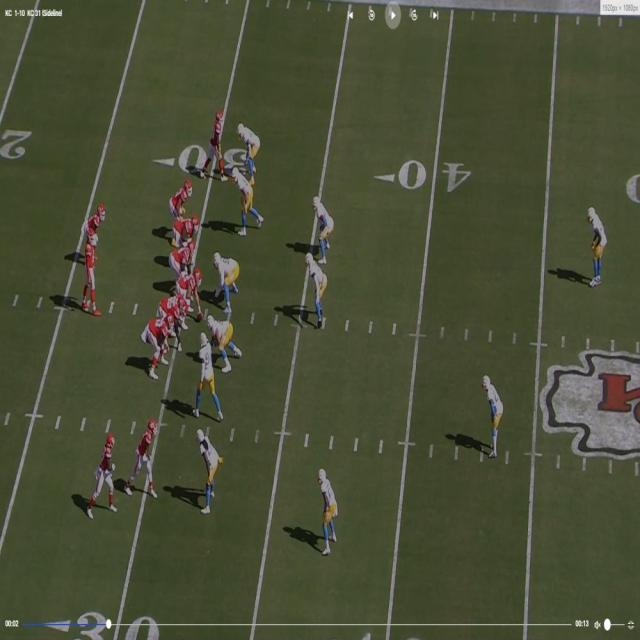center: (184, 269, 203, 317)
db: (196, 427, 219, 514), (590, 206, 609, 284), (486, 374, 504, 454), (239, 119, 261, 183), (321, 468, 337, 550)
lb: (302, 251, 325, 328), (316, 196, 334, 263)
qb: (84, 226, 96, 308)
skill: (94, 439, 116, 514), (132, 422, 154, 489), (210, 110, 228, 179), (82, 200, 106, 233), (170, 185, 190, 220)
